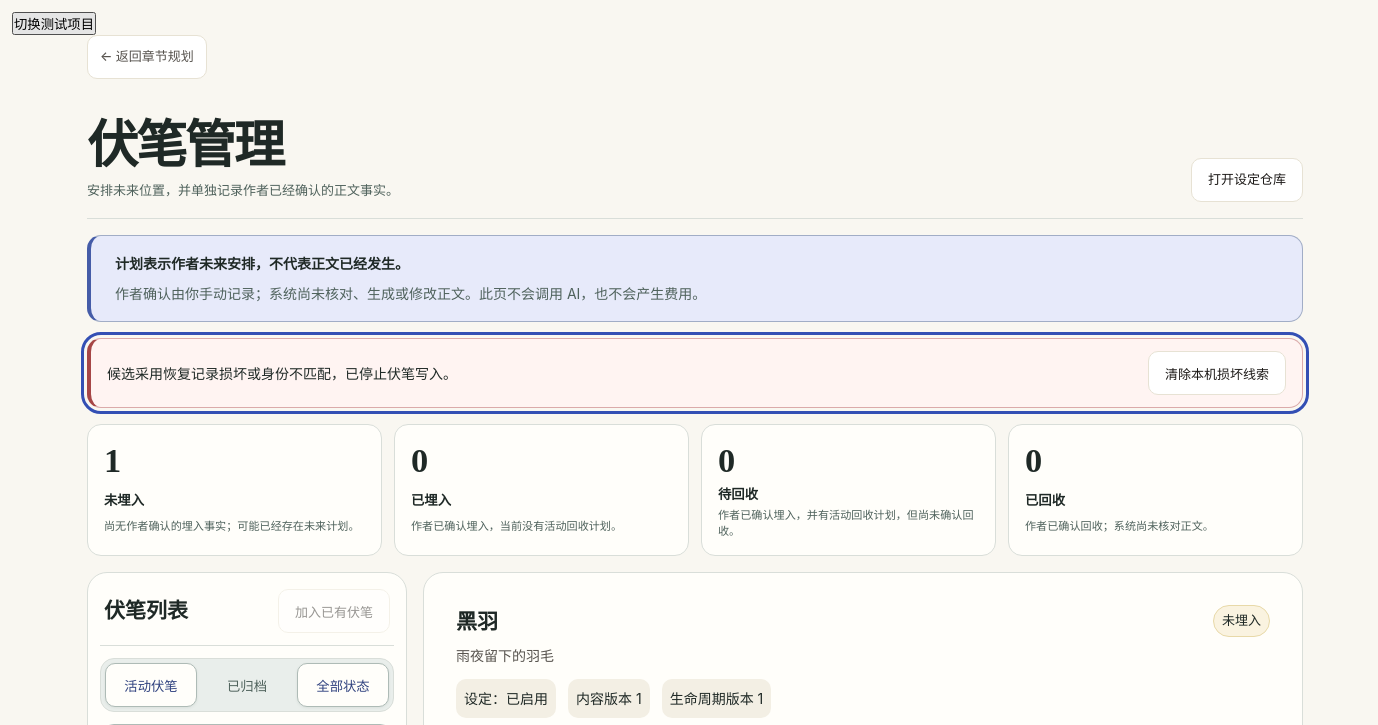
Test: ForeshadowPlanningPage › does not clear or unlock when a corrupt v6 slot is replaced by a v5 record
Click the button "清除本机损坏线索": x=1217, y=373 [1148,351,1286,395]
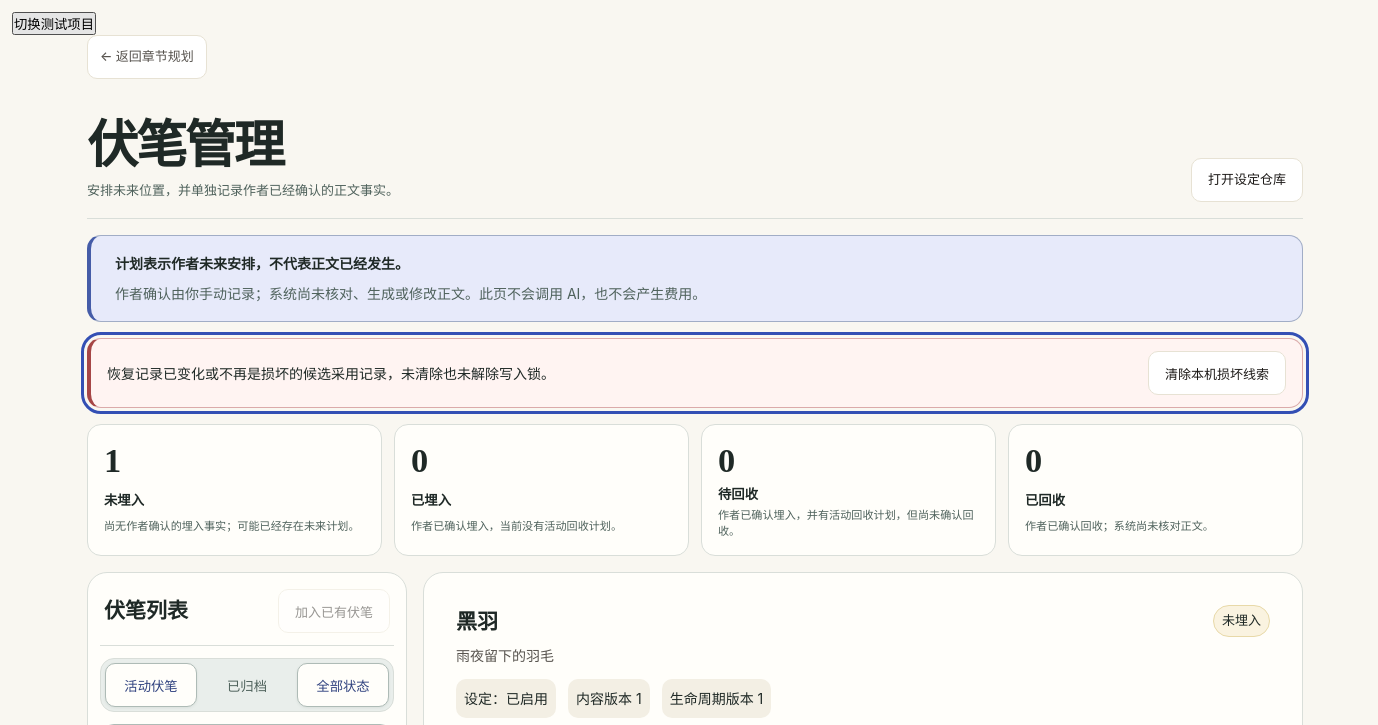
Expected: the button "加入已有伏笔" is disabled, [278,590,390,634]
Expected: the message reads "恢复记录已变化或不再是损坏的候选采用记录，未清除也未解除写入锁。 清除本机损坏线索", [107,365,555,382]
